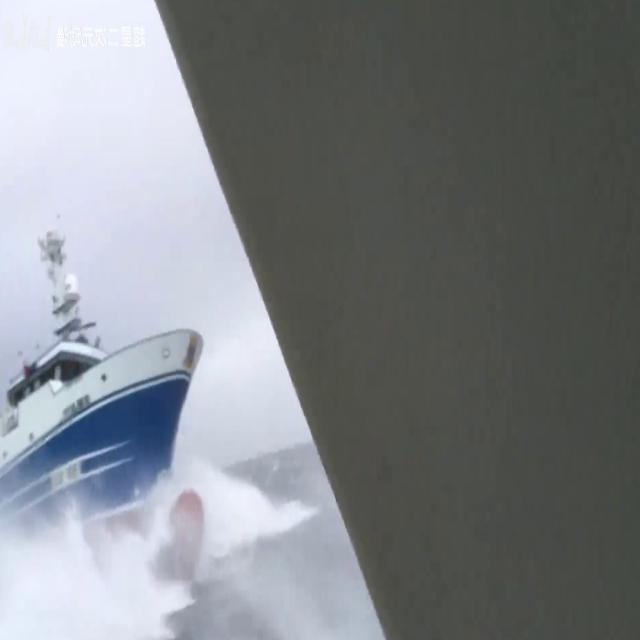houseboat: (0, 220, 218, 588)
